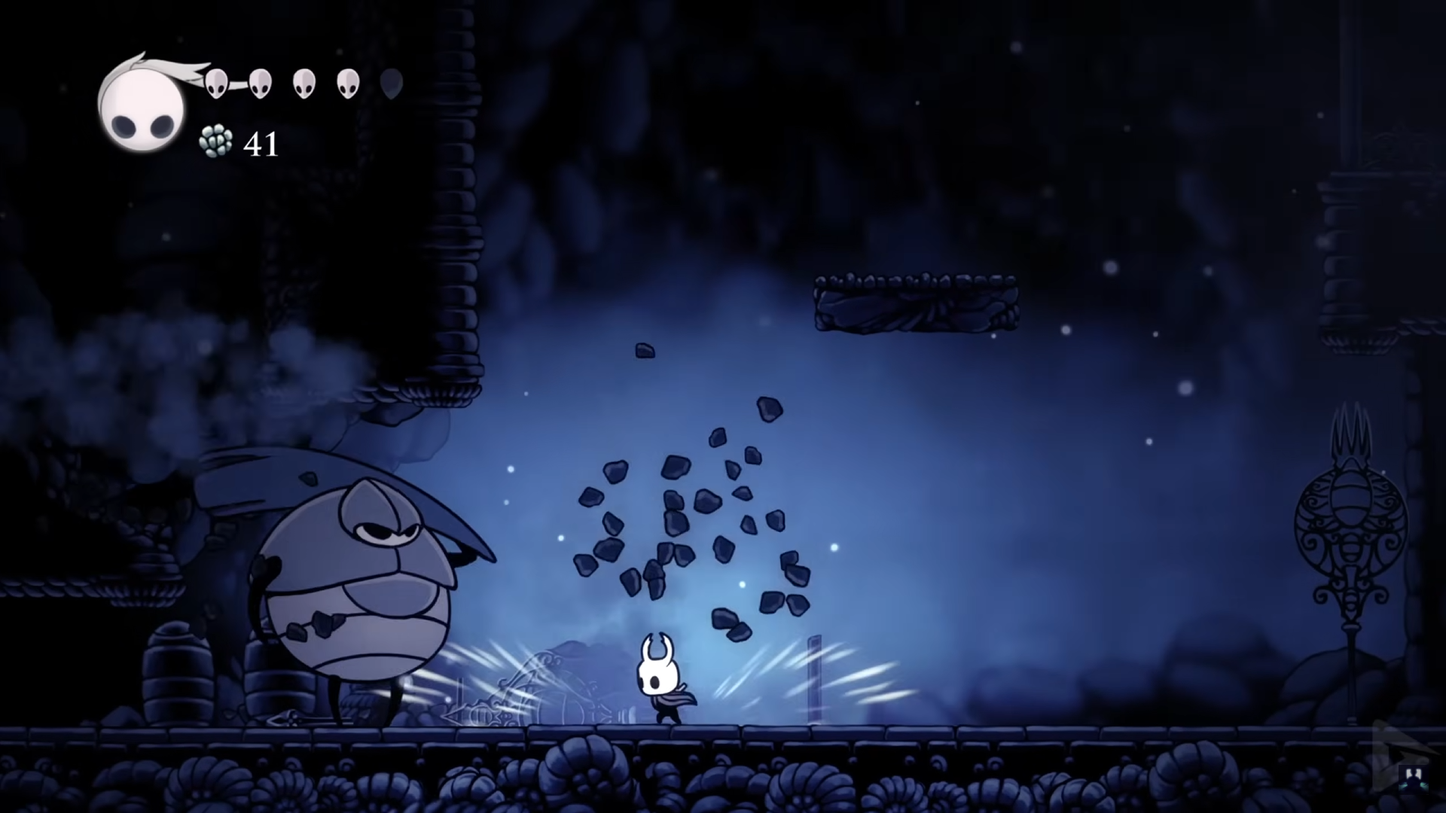HK: (631, 629, 691, 729)
